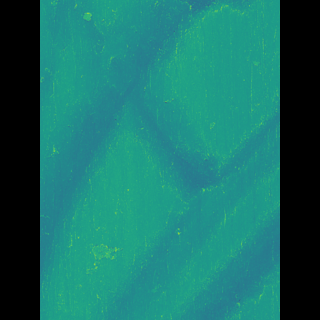Loch: (69, 0, 165, 216), (142, 0, 233, 140), (177, 201, 250, 319)
